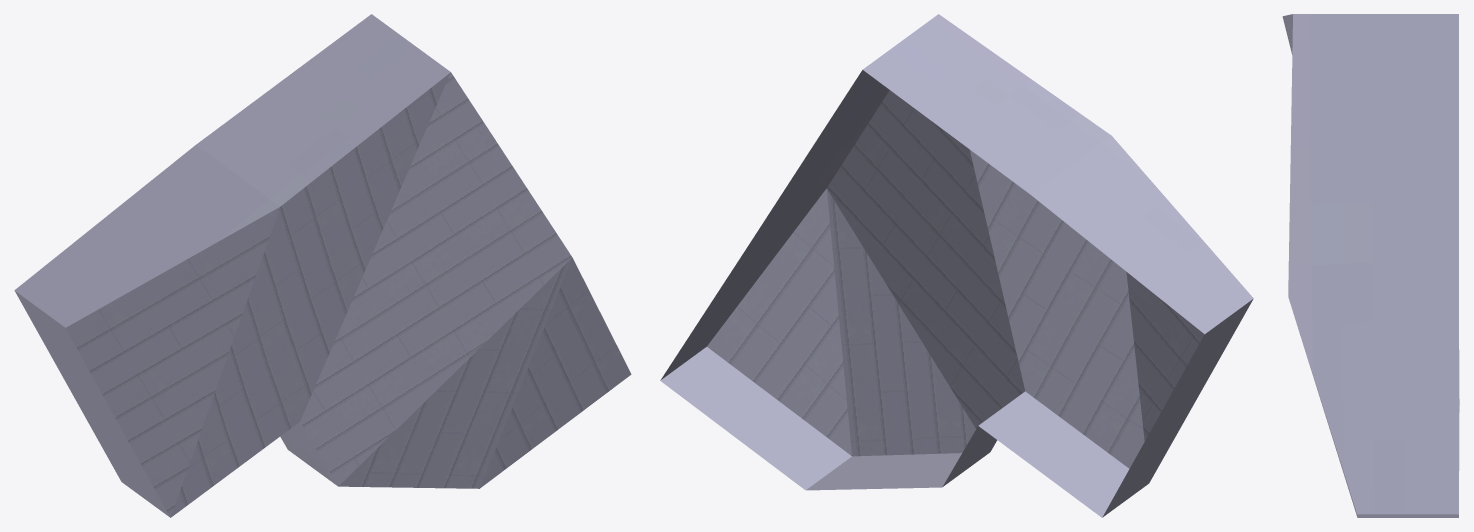
File: Parnu8_2.obj
3 views of the same model, side by side, from view 1: azimuth 30°, elevation 25°; view 2: azimuth 150°, elevation 25°; view 3: azimuth 270°, elevation 25° (orthographic). The views are drawn at different scales.
Visible parts, largest first — view 1: pPlane1; view 2: pPlane1; view 3: pPlane1.
Boxes of the visible parts, x1,y1,x2,y2 form: pPlane1: [14, 14, 631, 517]; pPlane1: [660, 14, 1253, 517]; pPlane1: [1282, 14, 1459, 517].
Bounding box in the file's own units: 10.33 × 7.88 × 2.67.
Materials: 1 (1 with a texture image).
